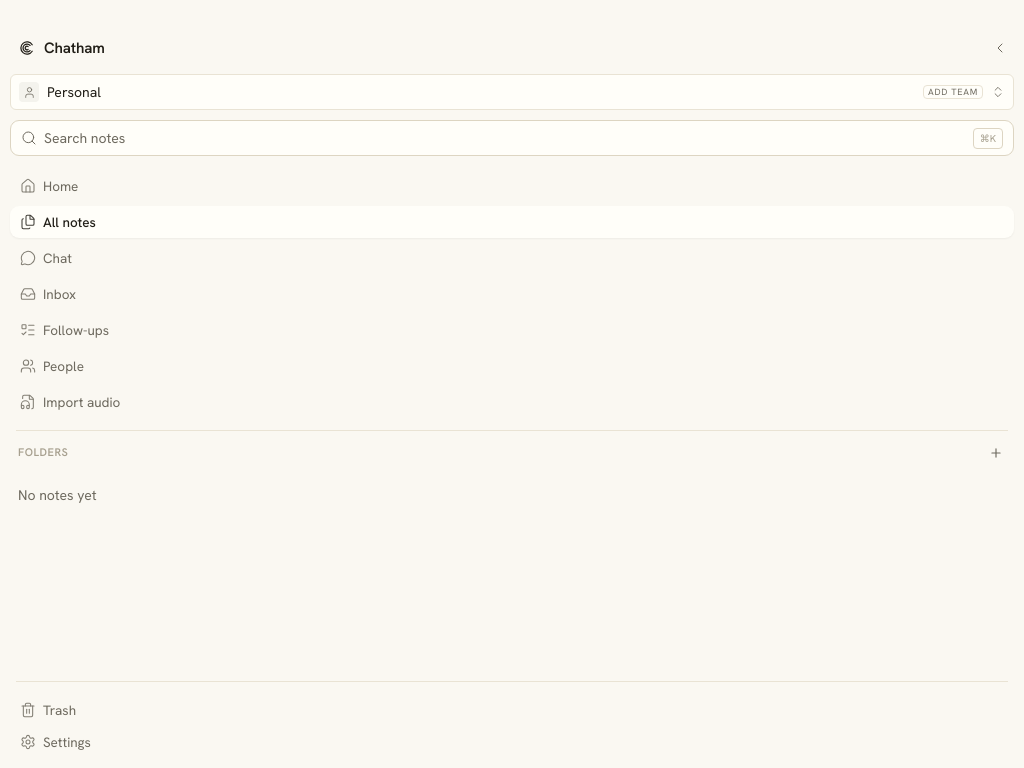
Scenario: Sidebar import audio › picks a file, opens the config dialog, then imports and navigates
Click the button "Import audio" at [82, 402], box [10,386,1014,418]
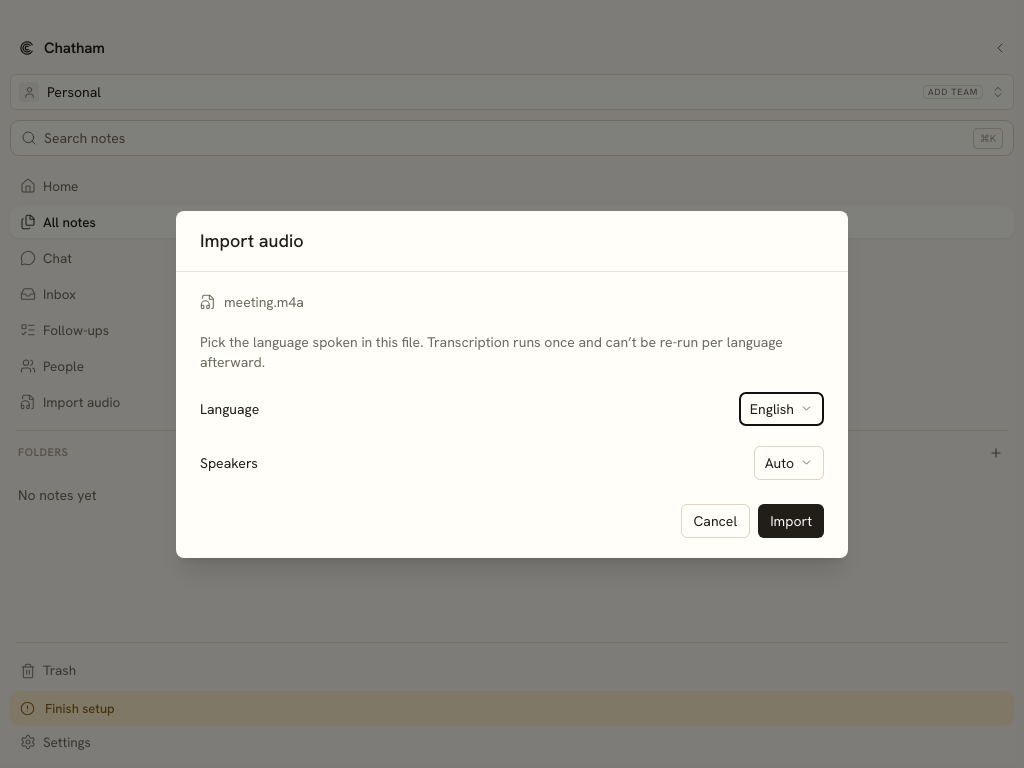
Expected: the text "English" is shown, [750,398,794,418]
Click the button "Import" at [791, 520], box [758,504,824,538]
(page scrolled)
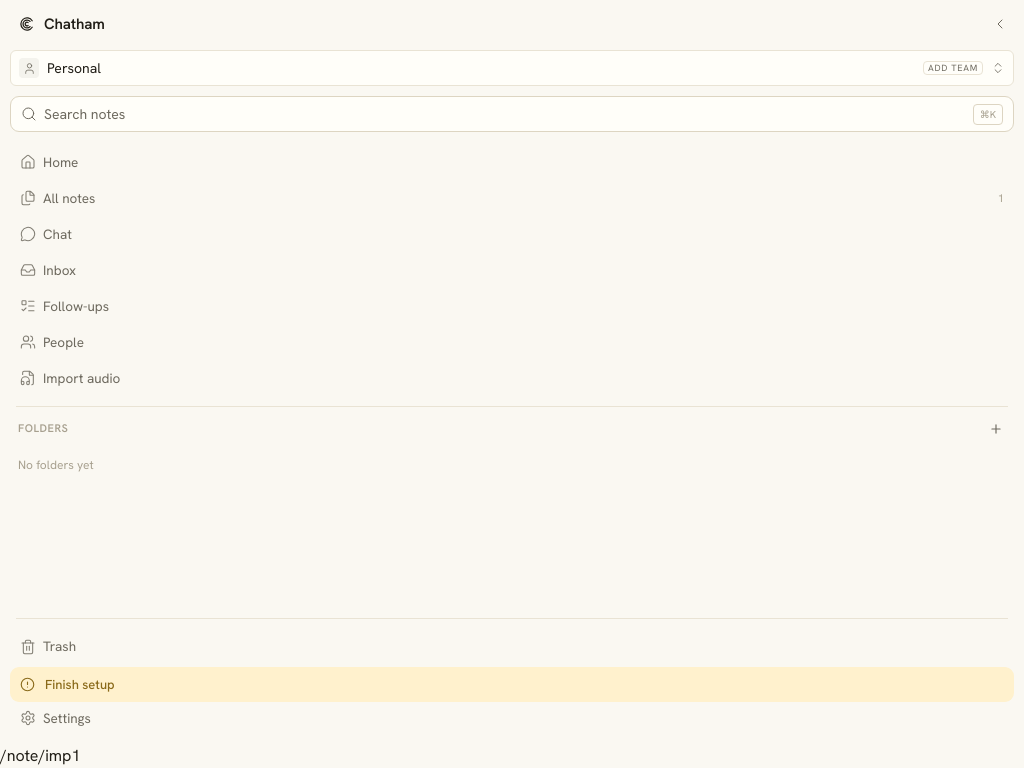
Expected: the text with test id "location" reads "/note/imp1", [0,745,80,766]
